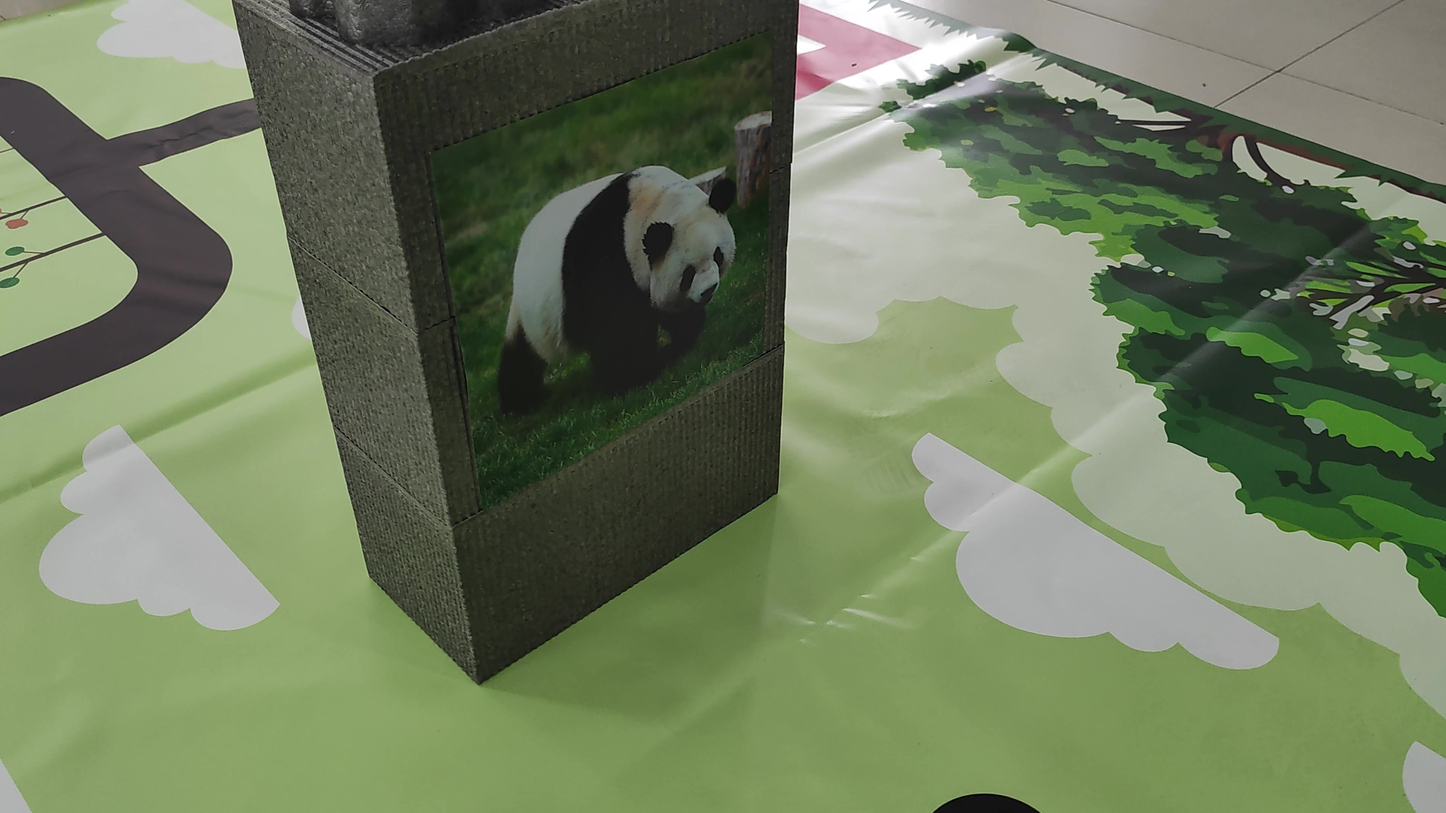panda: (465, 123, 766, 402)
